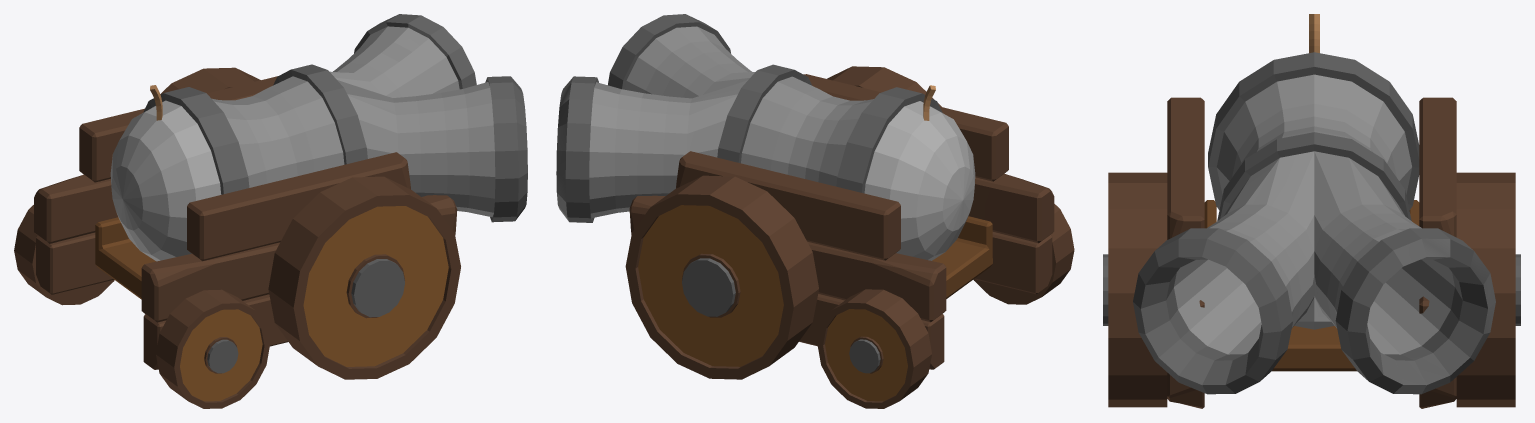
File: CannonDoble.fbx
The picture shows the model from 3 angles, left to right: view 1: azimuth 30°, elevation 25°; view 2: azimuth 150°, elevation 25°; view 3: azimuth 270°, elevation 25°; orthographic projection. The views are drawn at different scales.
Visible parts, largest first — view 1: Wheels.001, Cannon_Front, Cannon_Platform.001, Cannon_Back; view 2: Wheels.001, Cannon_Front, Cannon_Platform.001, Cannon_Back; view 3: Cannon_Front, Wheels.001, Cannon_Platform.001, Cannon_Back.
Boxes of the visible parts, x1,y1,x2,y2 form: Wheels.001: (14,67,460,408); Cannon_Front: (143,14,527,222); Cannon_Platform.001: (34,76,457,369); Cannon_Back: (110,85,221,261); Wheels.001: (625,66,1074,408); Cannon_Front: (556,14,942,222); Cannon_Platform.001: (629,74,1054,369); Cannon_Back: (864,85,975,260); Cannon_Front: (1133,52,1495,394); Wheels.001: (1103,172,1520,407); Cannon_Platform.001: (1167,97,1456,408); Cannon_Back: (1309,14,1319,52).
Size of the model in its own units: 257 by 159 by 197.
